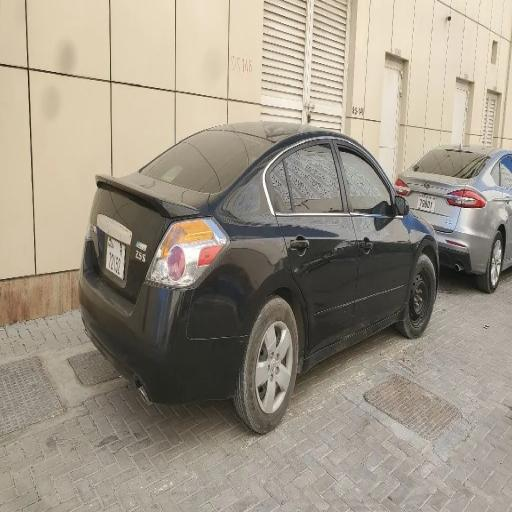license-plates: (106, 235, 126, 279), (416, 193, 436, 213)
